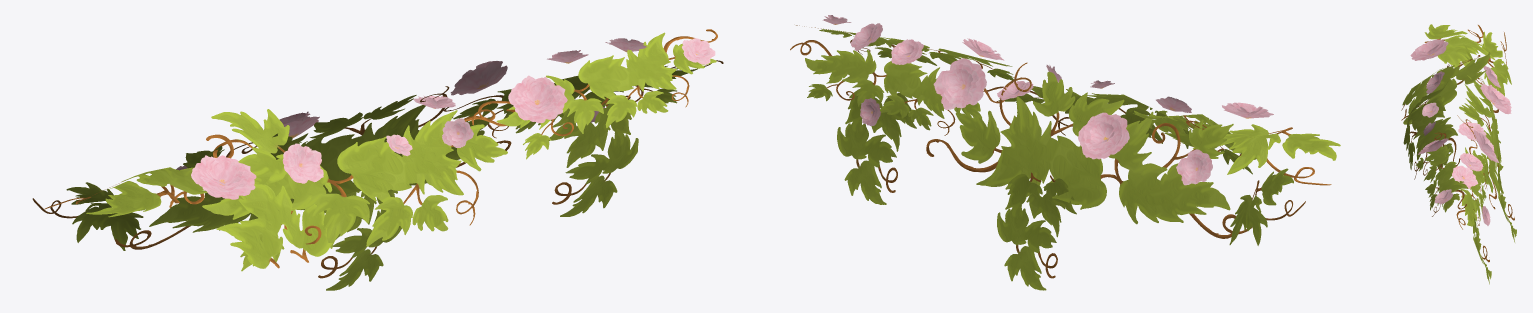
The model's file is sm_fleurs_03.fbx.
The picture shows the model from 3 angles, left to right: view 1: azimuth 30°, elevation 25°; view 2: azimuth 150°, elevation 25°; view 3: azimuth 270°, elevation 25°; orthographic projection. The views are drawn at different scales.
Visible parts, largest first — view 1: sm_fleurs_03; view 2: sm_fleurs_03; view 3: sm_fleurs_03.
Boxes of the visible parts, x1=… form: sm_fleurs_03: x1=32, y1=29, x2=723, y2=290; sm_fleurs_03: x1=790, y1=15, x2=1340, y2=290; sm_fleurs_03: x1=1401, y1=24, x2=1516, y2=284.
Bounding box in the file's own units: 331 × 114 × 81.99.
